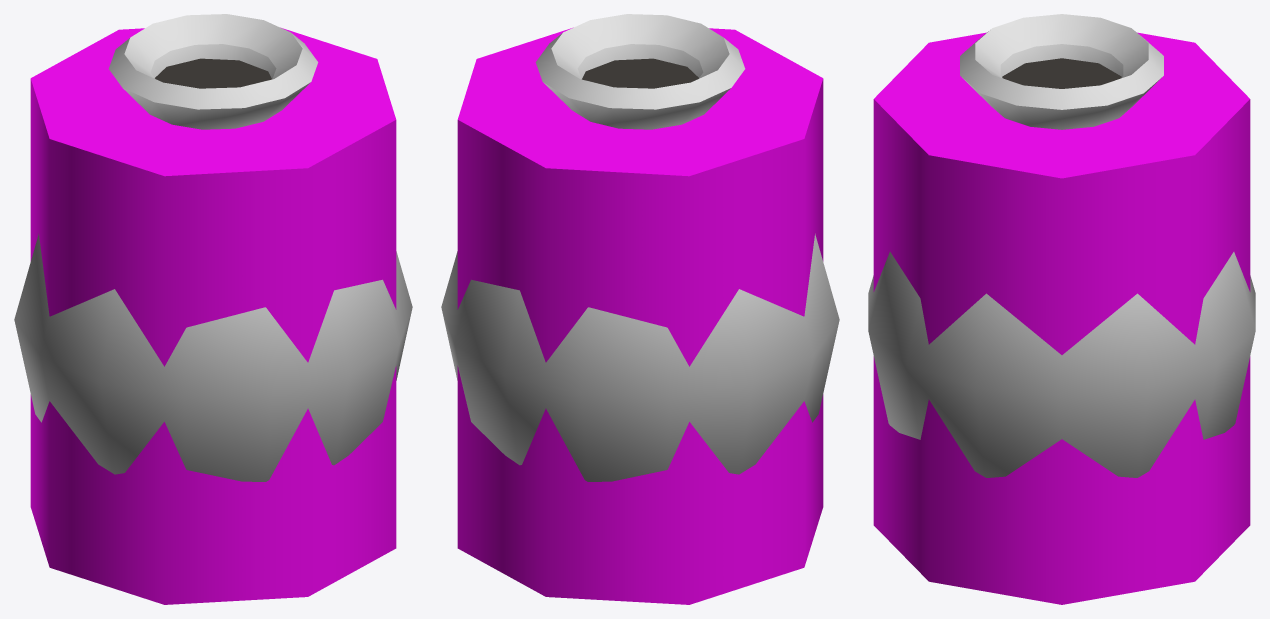
Rendered from urn.glb.
3 renders of one model, left to right at view 1: azimuth 30°, elevation 25°; view 2: azimuth 150°, elevation 25°; view 3: azimuth 270°, elevation 25°, orthographic.
Parts seen in each view (by area): view 1: urn_hull, urn; view 2: urn_hull, urn; view 3: urn_hull, urn.
Boxes of the visible parts, box(x1,y1,x2,y2) form: urn_hull: box(30, 27, 396, 604); urn: box(14, 14, 412, 481); urn_hull: box(457, 27, 823, 604); urn: box(441, 14, 839, 481); urn_hull: box(873, 32, 1250, 604); urn: box(868, 14, 1255, 477).
Size of the model in its own units: 0.76 by 1 by 0.741.
